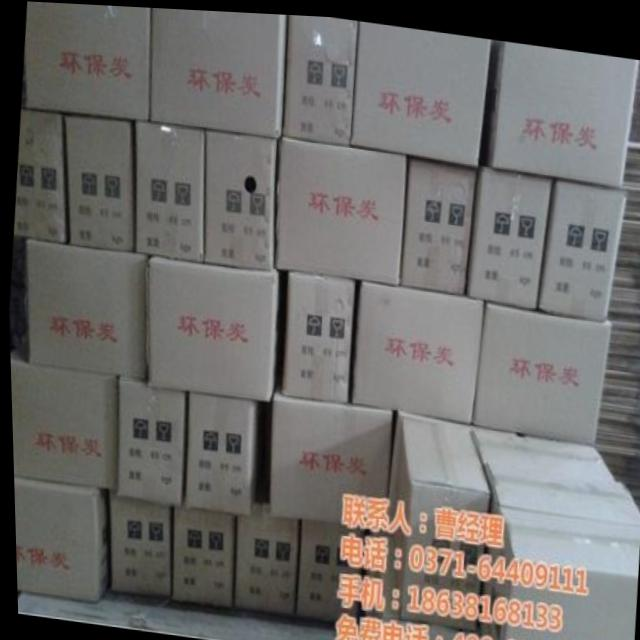box: (378, 406, 486, 628), (484, 35, 638, 182), (472, 504, 638, 640), (348, 17, 490, 163), (469, 294, 609, 440), (345, 276, 483, 420), (272, 134, 406, 281), (144, 255, 279, 399), (147, 6, 286, 135), (266, 385, 390, 525), (24, 239, 146, 377), (8, 342, 116, 489), (24, 1, 151, 119), (482, 458, 638, 547), (537, 171, 627, 316), (463, 160, 550, 304), (11, 478, 106, 601), (398, 149, 475, 290), (279, 265, 357, 399), (201, 127, 276, 266), (280, 12, 358, 142), (132, 119, 203, 261), (62, 112, 133, 251), (181, 389, 256, 513), (115, 375, 186, 503), (229, 495, 296, 612), (291, 516, 362, 621), (467, 420, 611, 471), (12, 108, 64, 243), (105, 490, 170, 597), (167, 503, 232, 603)
